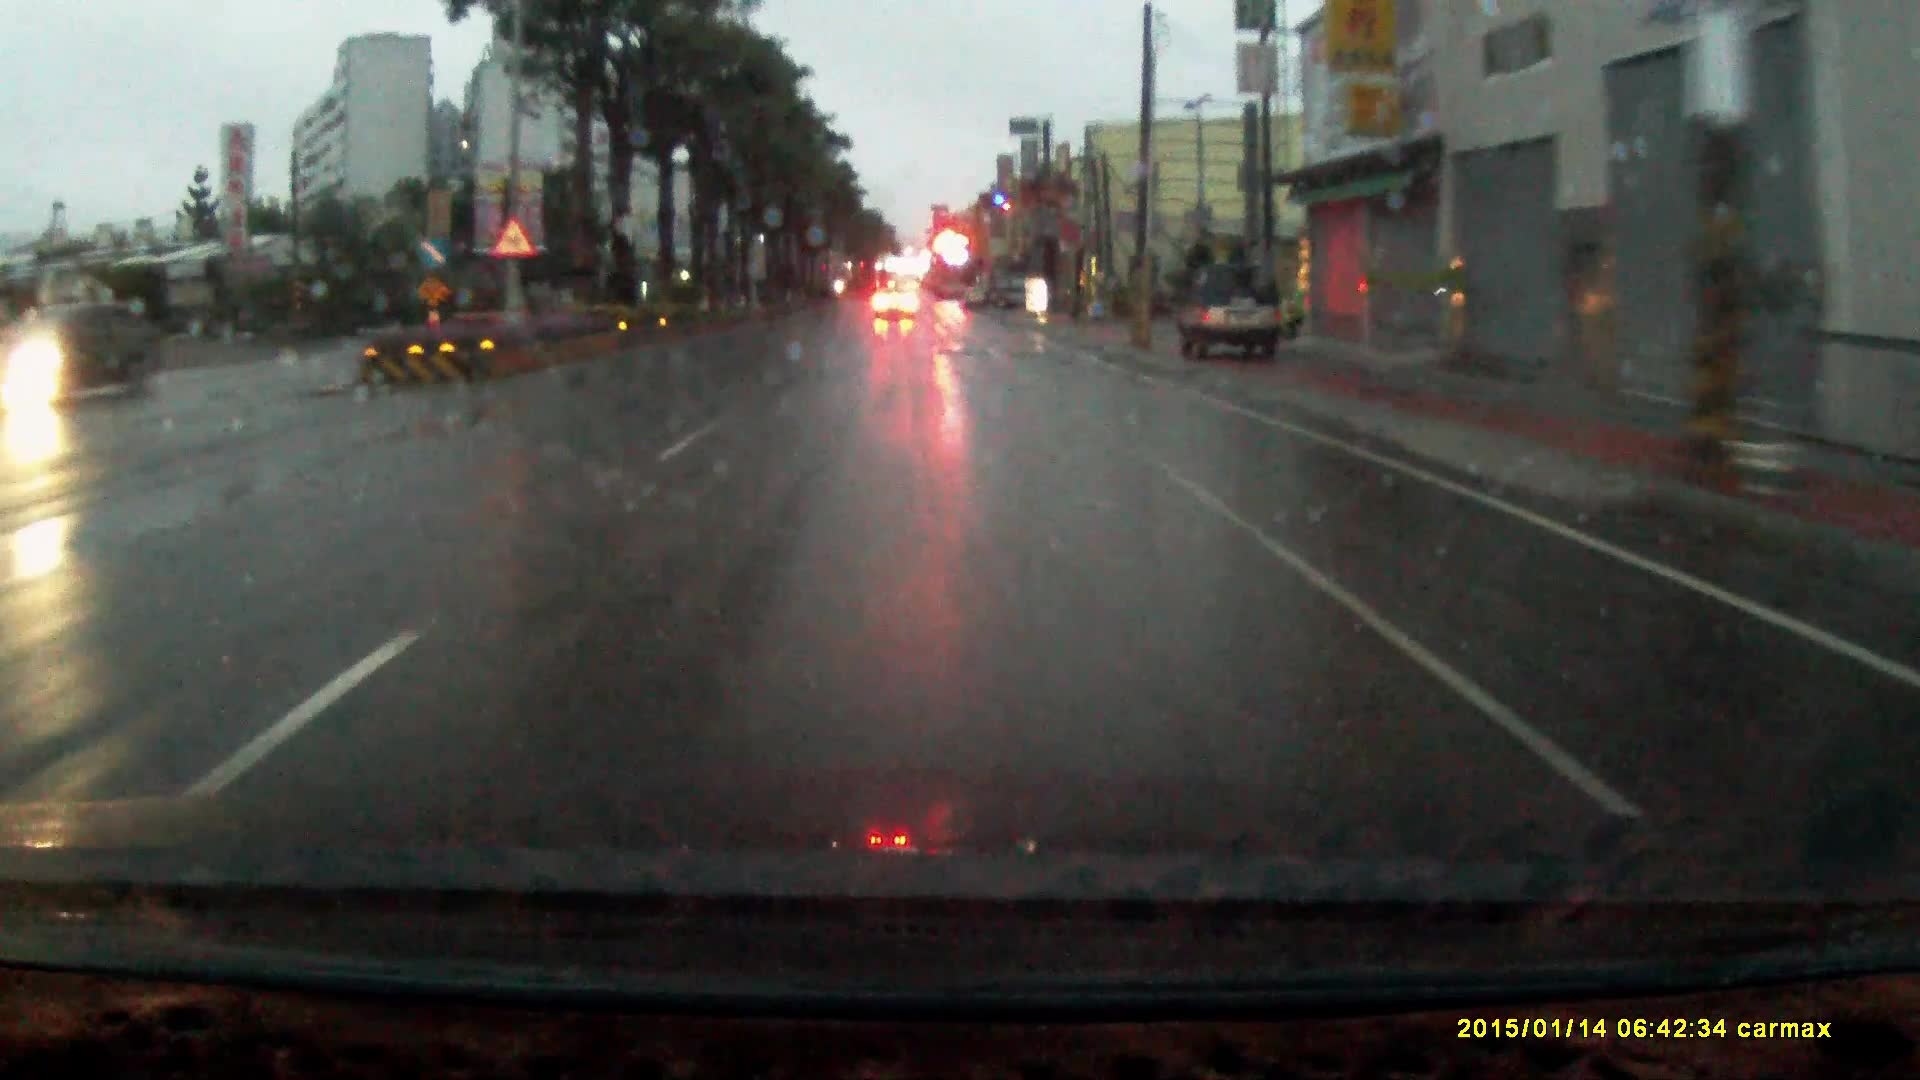vehicle: (1, 305, 165, 414), (1174, 258, 1288, 365), (872, 291, 916, 327)
